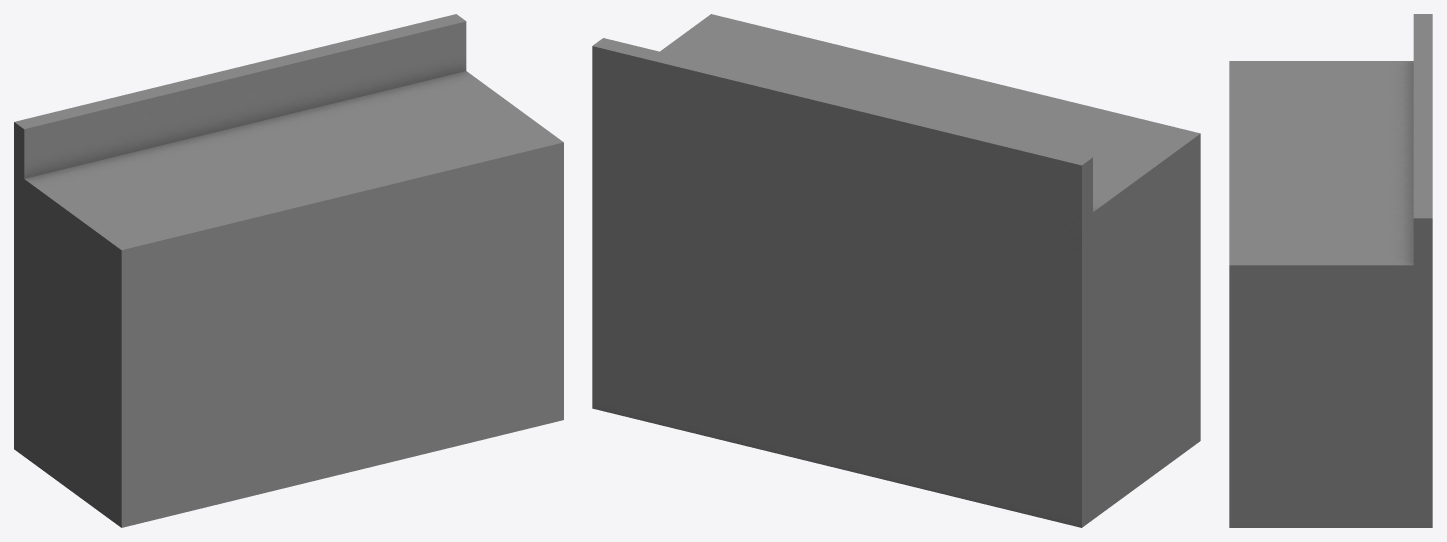
File: Table.FBX
3 views of the same model, side by side, from view 1: azimuth 30°, elevation 25°; view 2: azimuth 150°, elevation 25°; view 3: azimuth 270°, elevation 25° (orthographic). The views are drawn at different scales.
Visible parts, largest first — view 1: Table; view 2: Table; view 3: Table.
Part boxes in pixels (x1,y1,x2,y2): Table: (14,14,563,527); Table: (592,14,1200,527); Table: (1229,14,1432,527).
Bounding box in the file's own units: 1.09 × 0.7745 × 0.4606.
Materials: 1 (1 with a texture image).
